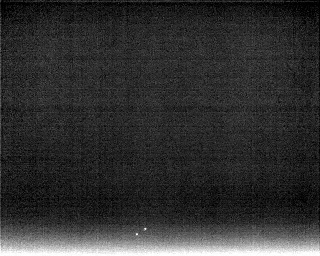BIRD: (134, 230, 140, 237)
